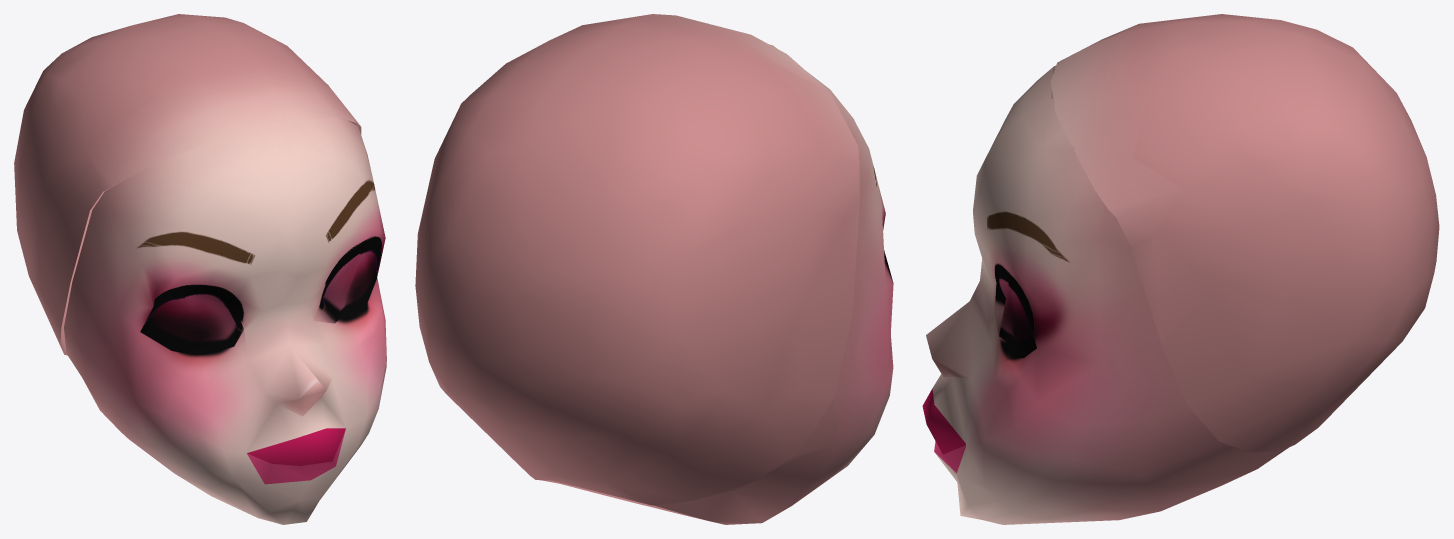
File: DollCollider.fbx
3 renders of one model, left to right at view 1: azimuth 30°, elevation 25°; view 2: azimuth 150°, elevation 25°; view 3: azimuth 270°, elevation 25°, orthographic. The views are drawn at different scales.
Visible parts, largest first — view 1: Doll_faceCollider, Doll_HeadCollider; view 2: Doll_HeadCollider, Doll_faceCollider; view 3: Doll_HeadCollider, Doll_faceCollider.
Part boxes in pixels (x1,y1,x2,y2): Doll_faceCollider: (64,116,386,524); Doll_HeadCollider: (14,14,361,355); Doll_HeadCollider: (415,14,859,505); Doll_faceCollider: (542,44,893,524); Doll_HeadCollider: (1050,14,1439,452); Doll_faceCollider: (922,65,1288,524).
Size of the model in its own units: 1.99 by 2.72 by 2.69.
Materials: 1 (1 with a texture image).
